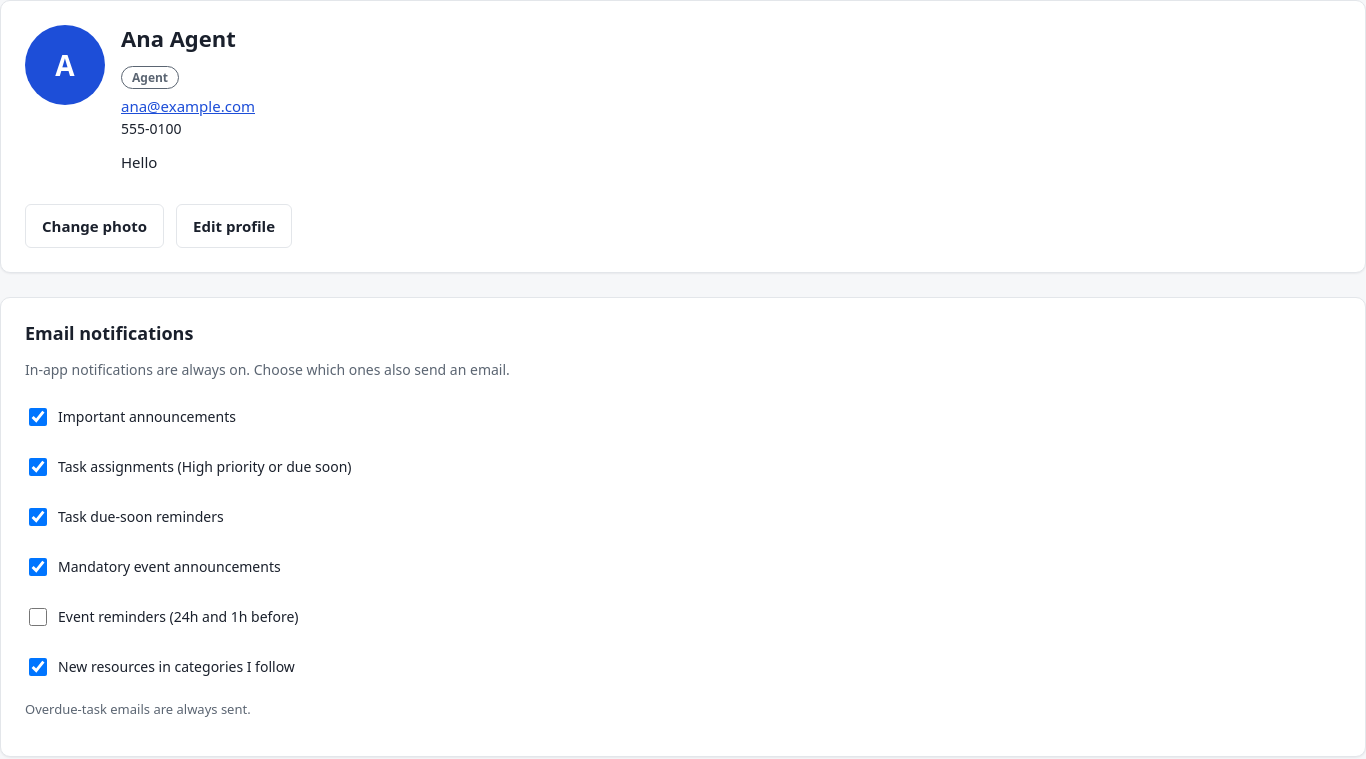
Test: ProfilePage › seeds the edit form with the current profile values on Edit click
Click the button "Edit profile".
click(234, 226)  # box [176, 204, 292, 248]
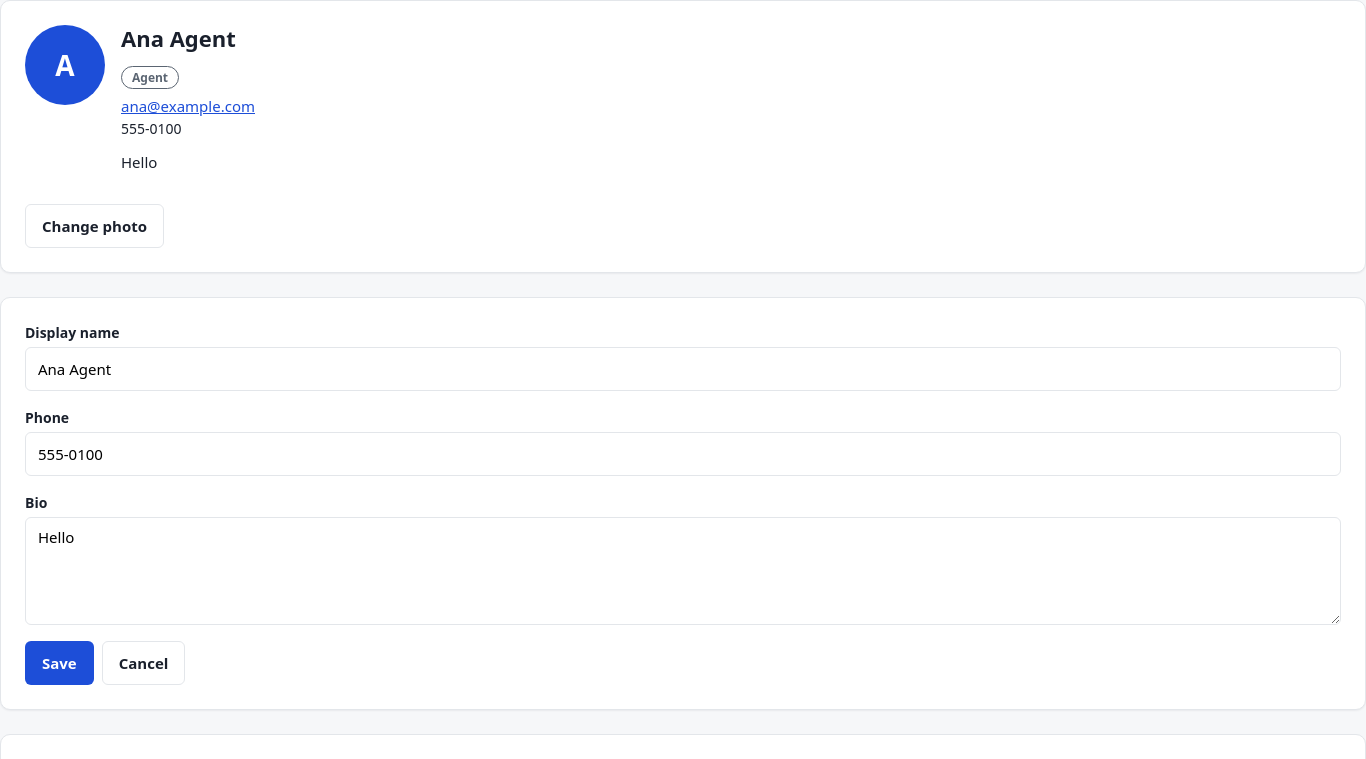
expect the field labelled "Display name" holds "Ana Agent": met, box [25, 347, 1341, 391]
expect the field labelled "Phone" holds "555-0100": met, box [25, 432, 1341, 476]
expect the text box labelled "Bio" holds "Hello": met, box [25, 517, 1341, 625]
